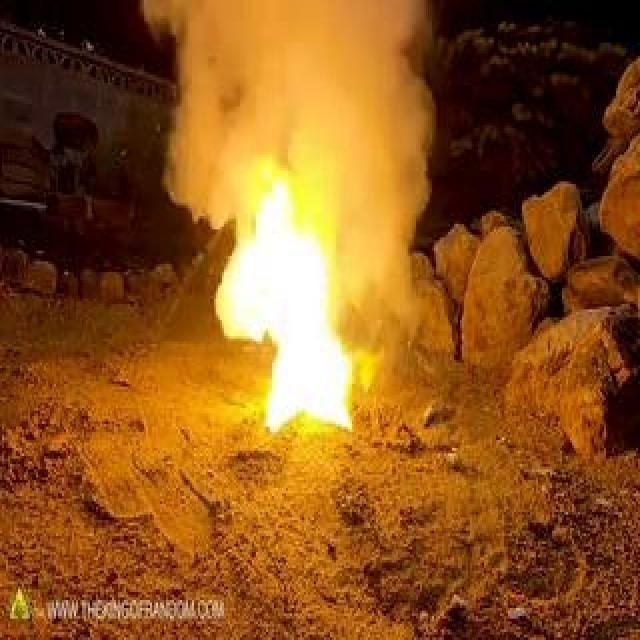Fire: (217, 174, 357, 434)
Smoke: (177, 11, 446, 152)
